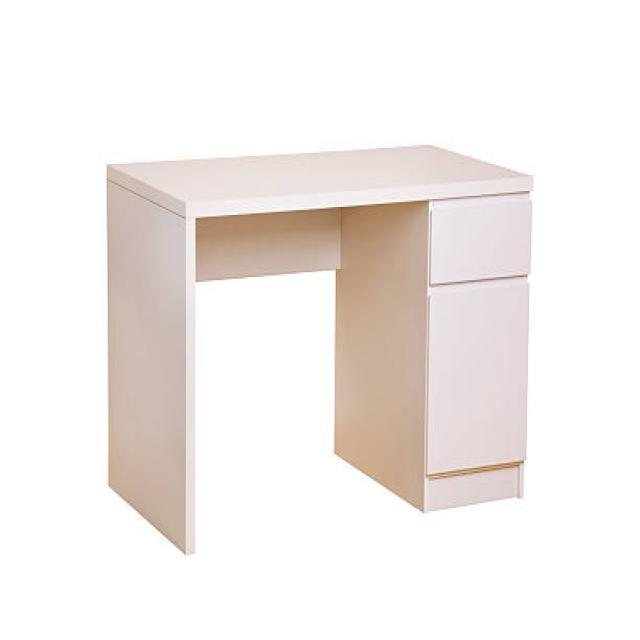table: (106, 142, 534, 554)
